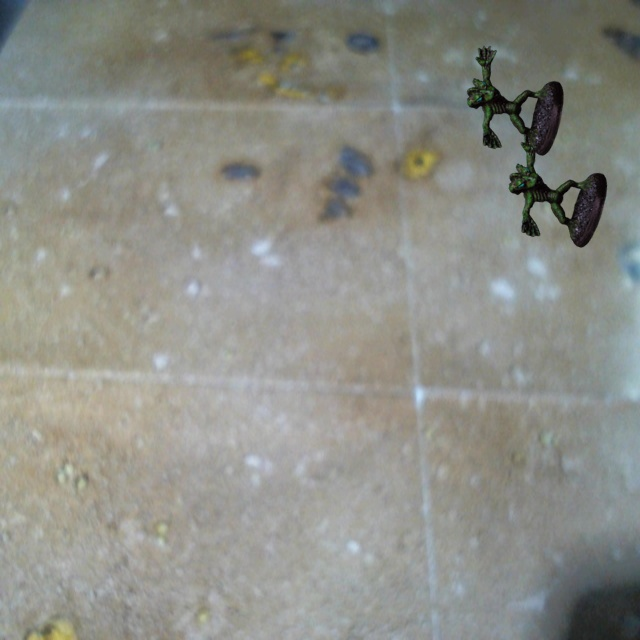pieza_juego: (509, 131, 606, 247), (467, 46, 563, 155)
